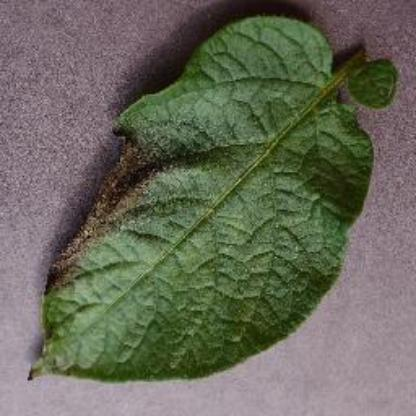Late-Blight: (24, 10, 400, 402)
